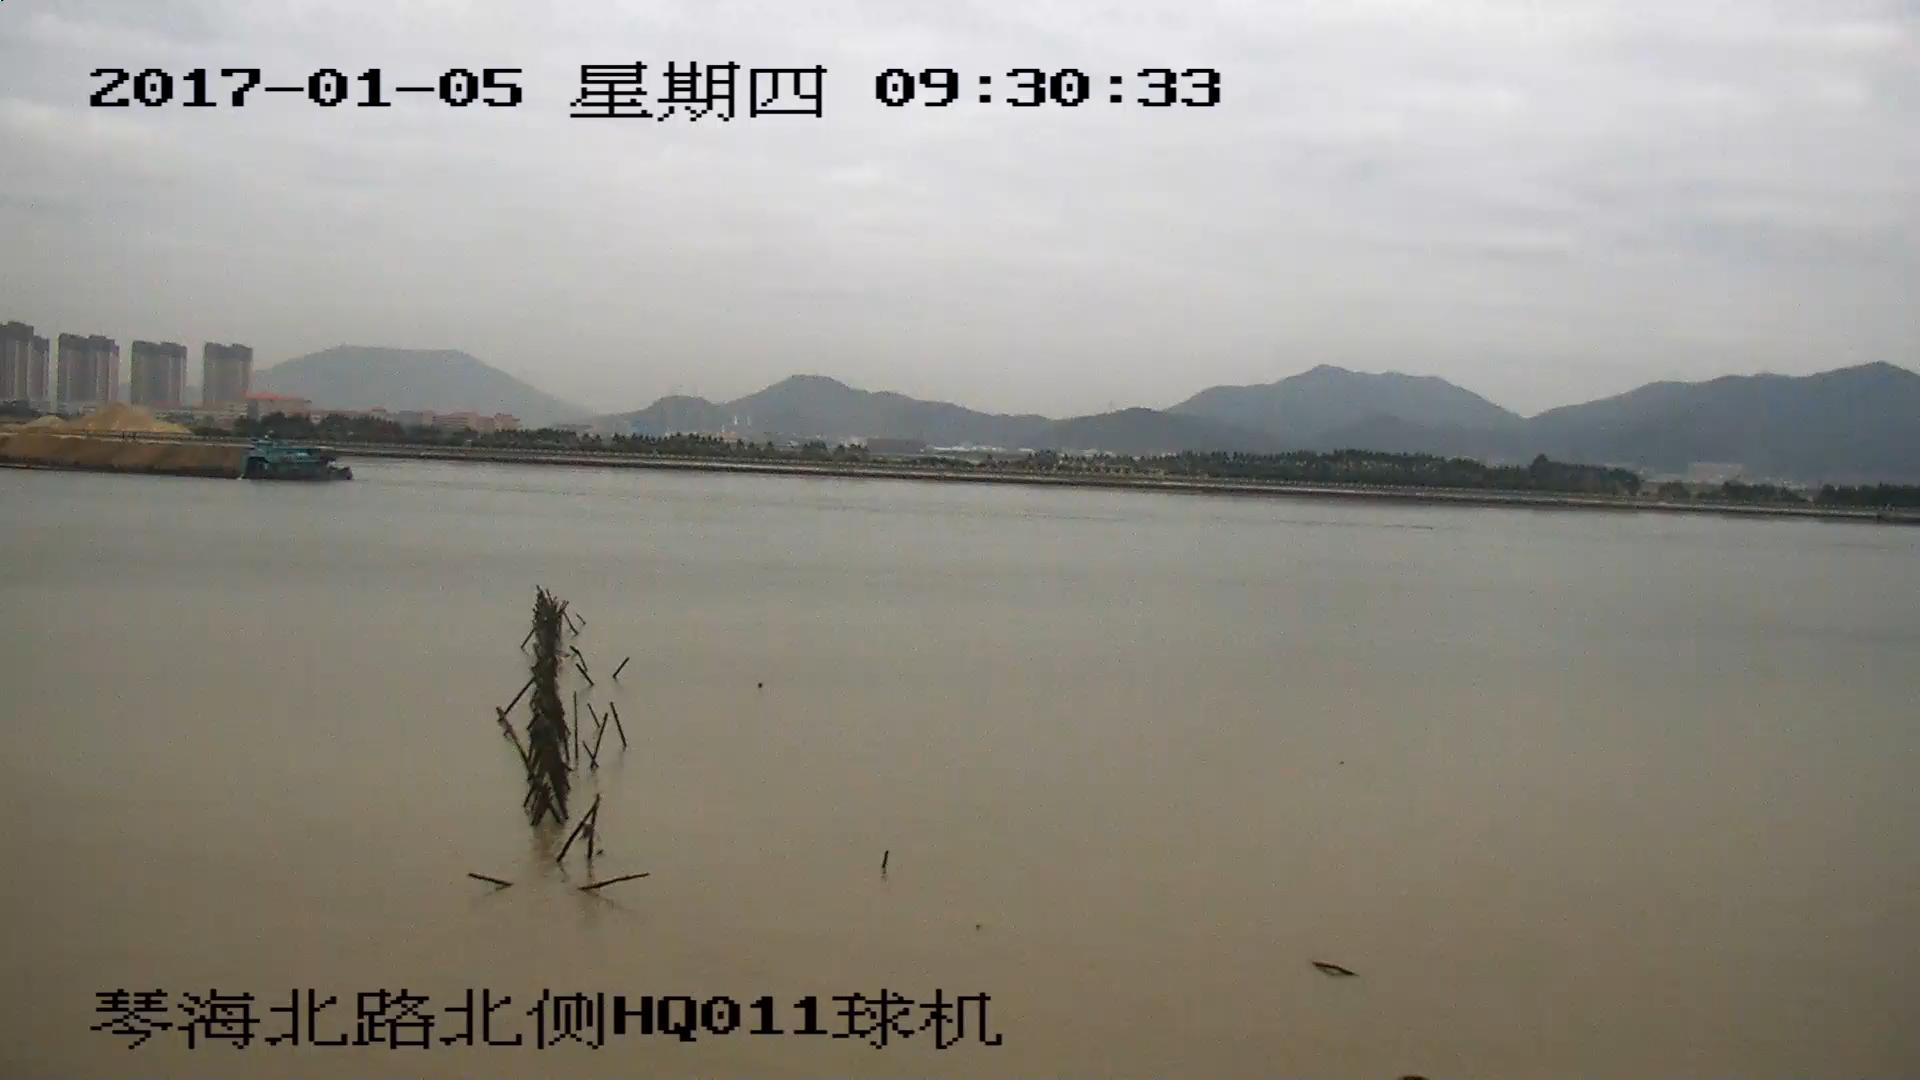ore carrier: (1, 434, 352, 480)
